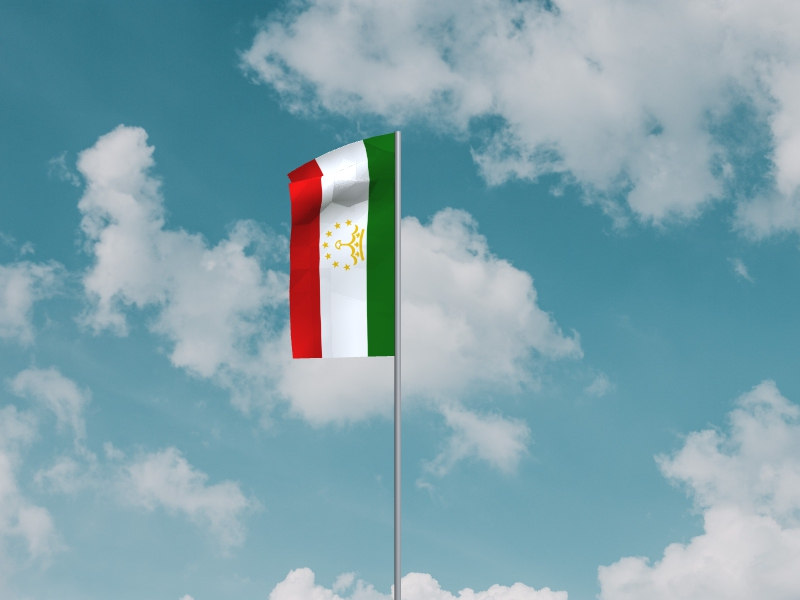tj: (287, 132, 395, 360)
